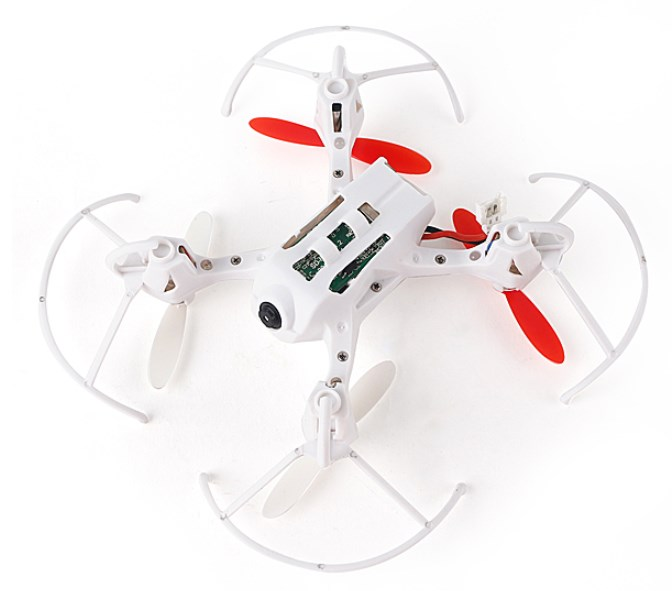drone: (40, 25, 651, 577)
